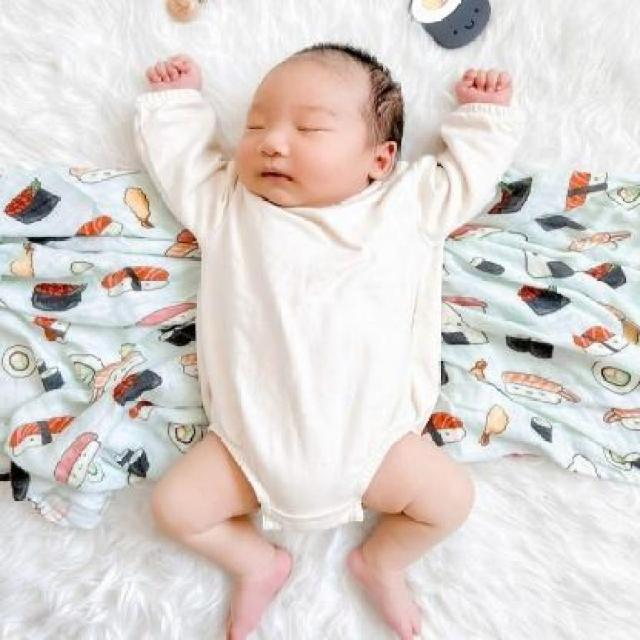baby: (131, 39, 514, 638)
